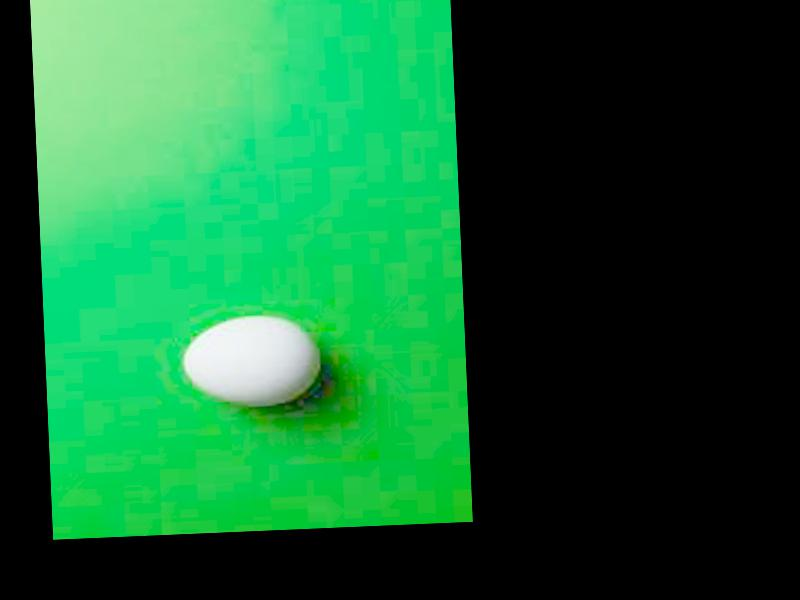Eggs: (181, 315, 321, 408)
